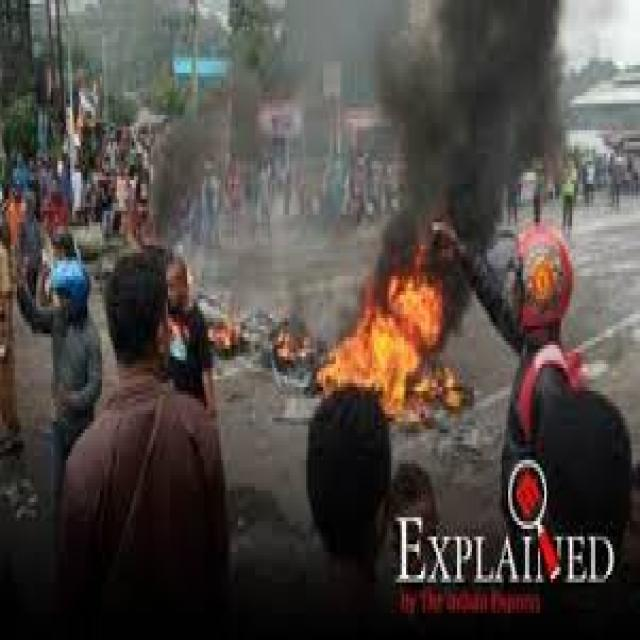Fire: (318, 244, 460, 416), (273, 326, 310, 361), (209, 314, 239, 352)
Smoke: (380, 2, 568, 222), (288, 6, 379, 113), (390, 191, 500, 251), (149, 134, 210, 240), (448, 230, 502, 326), (176, 75, 257, 134)
